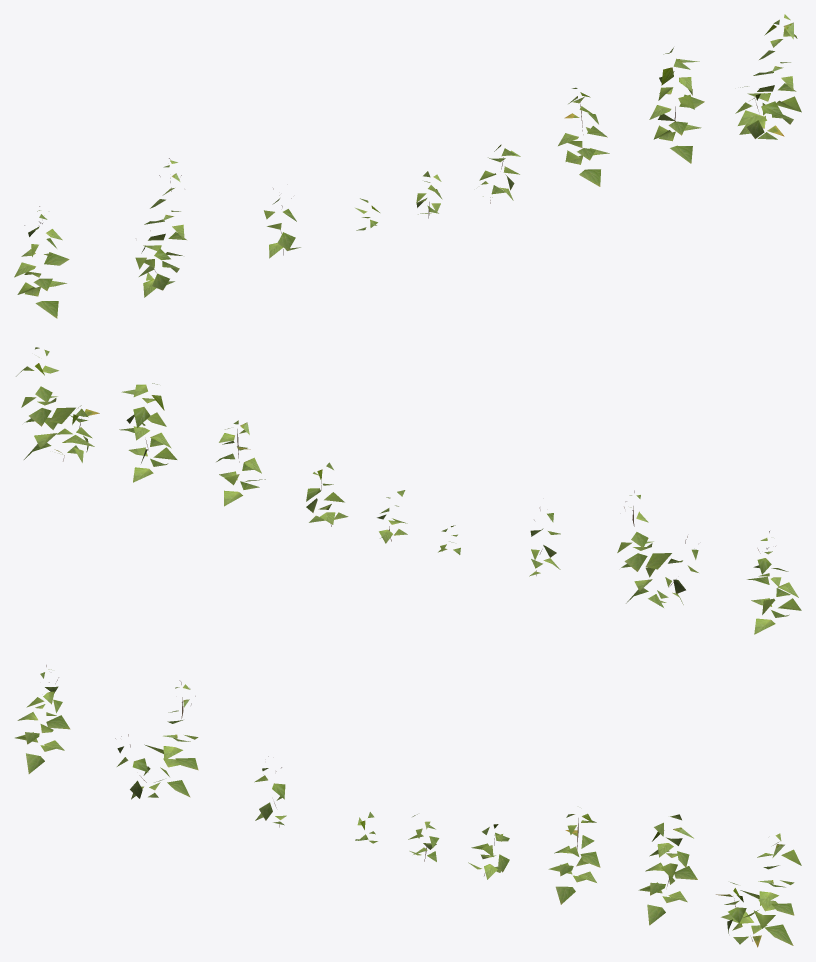
Rendered from shrub_01_lod2.gltf.
3 views of the same model, one above another, from view 1: azimuth 30°, elevation 25°; view 2: azimuth 150°, elevation 25°; view 3: azimuth 330°, elevation 25° (orthographic). The views are drawn at different scales.
Parts seen in each view (by area): view 1: shrub_01_lod2; view 2: shrub_01_lod2; view 3: shrub_01_lod2.
Boxes of the visible parts, left/top/right/bottom form: shrub_01_lod2: left=14, top=14, right=801, bottom=318; shrub_01_lod2: left=16, top=347, right=801, bottom=634; shrub_01_lod2: left=15, top=665, right=801, bottom=947.
Bounding box in the file's own units: 2.59 × 0.3835 × 0.2094.
Materials: 1 (1 with a texture image).
